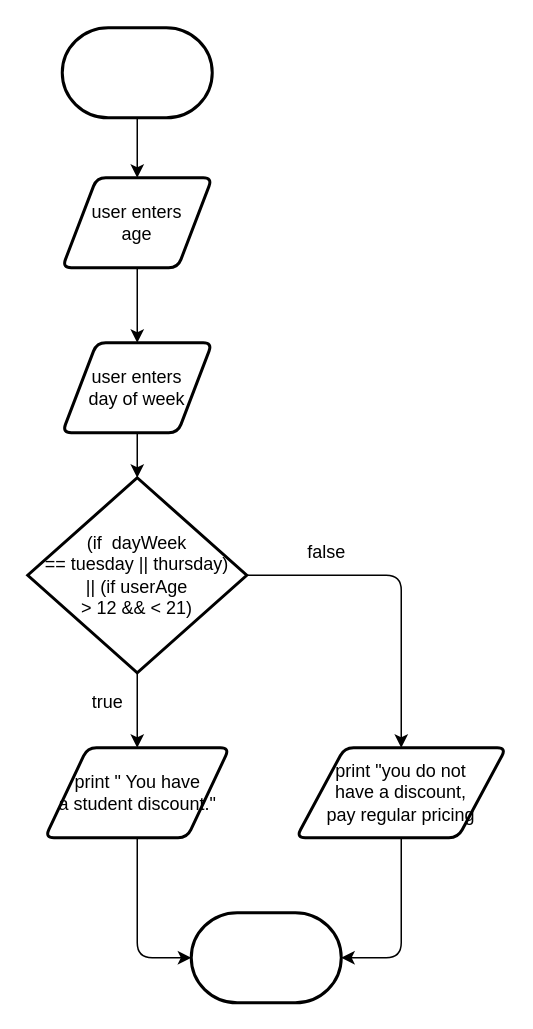
Image size: 533x1029. Some labels were removed from this diagram. Each missing label, with the centre of its shape:
start: point (136, 72)
stop: point (265, 957)
